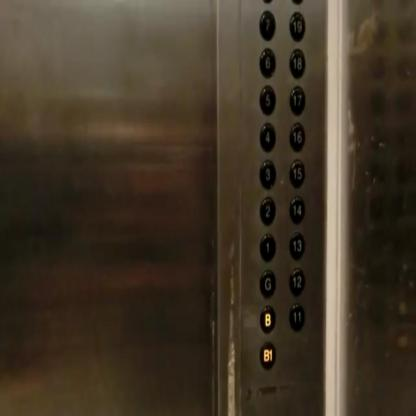1: (259, 232, 276, 261)
11: (288, 302, 304, 332)
12: (288, 266, 305, 296)
13: (288, 230, 305, 261)
14: (289, 195, 305, 224)
15: (289, 158, 305, 188)
16: (289, 122, 305, 152)
17: (289, 85, 305, 115)
18: (289, 47, 305, 78)
19: (289, 10, 305, 42)
2: (258, 196, 276, 226)
3: (258, 158, 276, 190)
4: (259, 121, 276, 153)
5: (258, 83, 276, 116)
6: (259, 46, 276, 79)
7: (258, 9, 276, 41)
B: (260, 304, 276, 334)
B1: (260, 340, 276, 370)
G: (259, 269, 275, 298)
